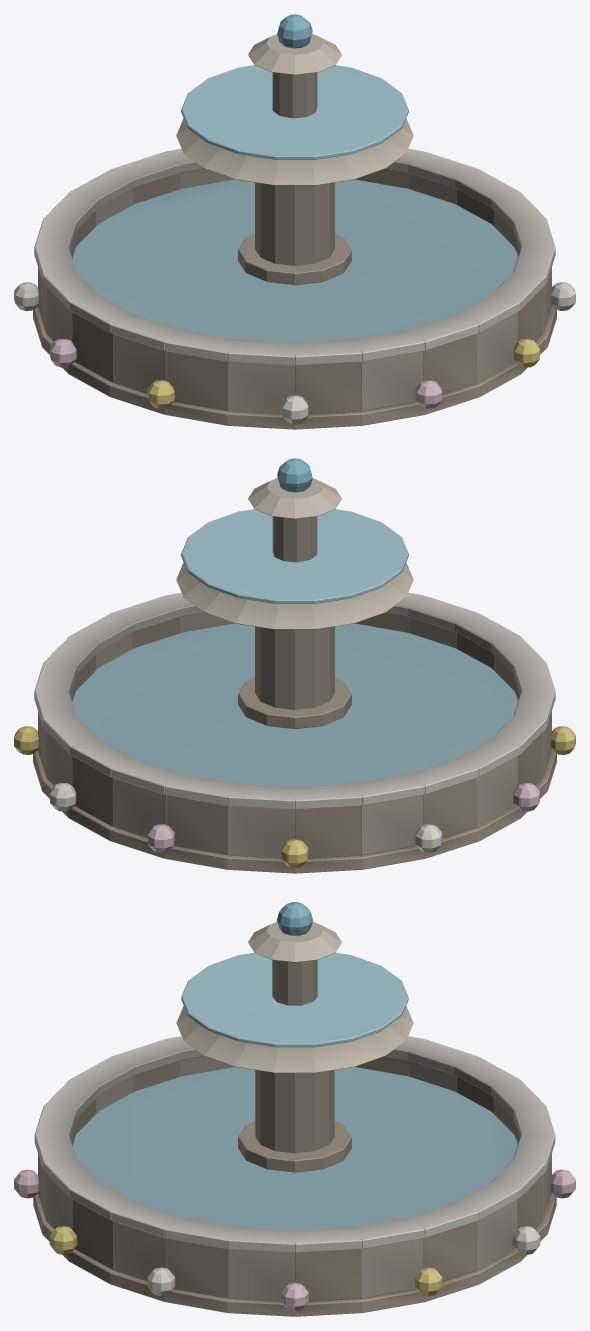
File: fountain.glb
3 renders of one model, top to bottom at view 1: azimuth 30°, elevation 25°; view 2: azimuth 150°, elevation 25°; view 3: azimuth 270°, elevation 25°, orthographic.
Size of the model in its own units: 4.94 by 2.94 by 4.94.
